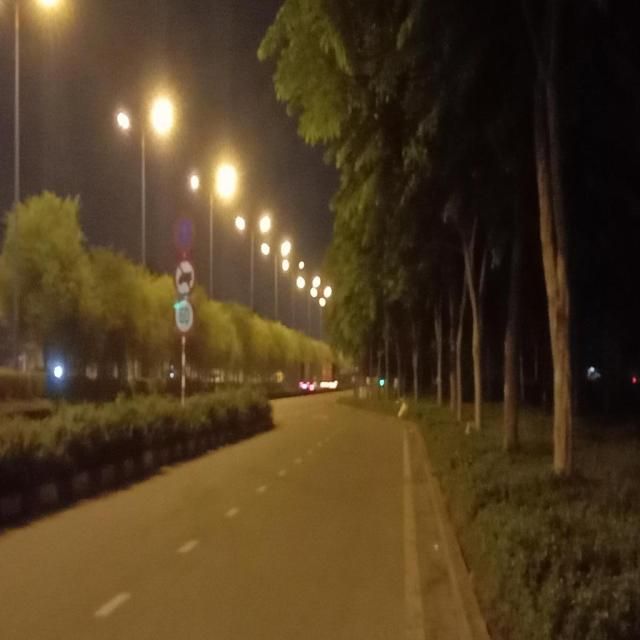cam_do_xe: (172, 212, 196, 254)
cam_o_to_tai: (174, 257, 196, 298)
toc_do_toi_da_60: (173, 297, 198, 337)
